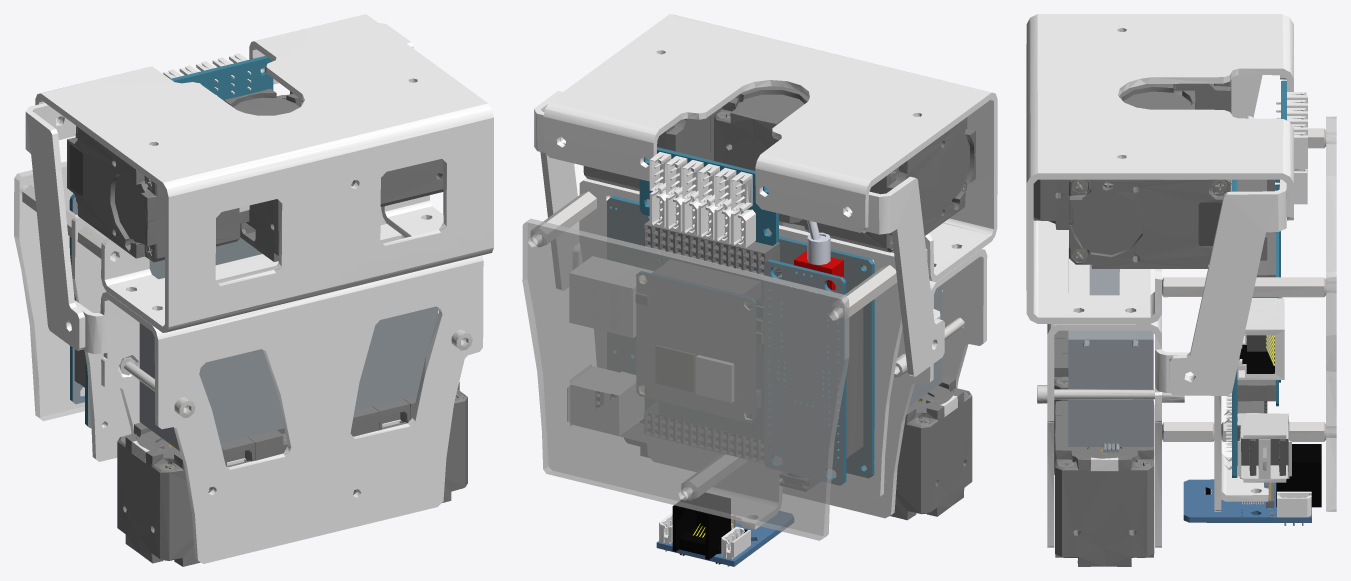
Rendered from torso.fbx.
The picture shows the model from 3 angles, left to right: view 1: azimuth 30°, elevation 25°; view 2: azimuth 150°, elevation 25°; view 3: azimuth 270°, elevation 25°; orthographic projection.
Parts seen in each view (by area): view 1: torso; view 2: torso; view 3: torso.
Boxes of the visible parts, box(x1,y1,x2,y2) form: torso: box(14, 14, 493, 566); torso: box(522, 14, 997, 566); torso: box(1026, 14, 1336, 566).
Size of the model in its own units: 12000 by 13158 by 8890.
